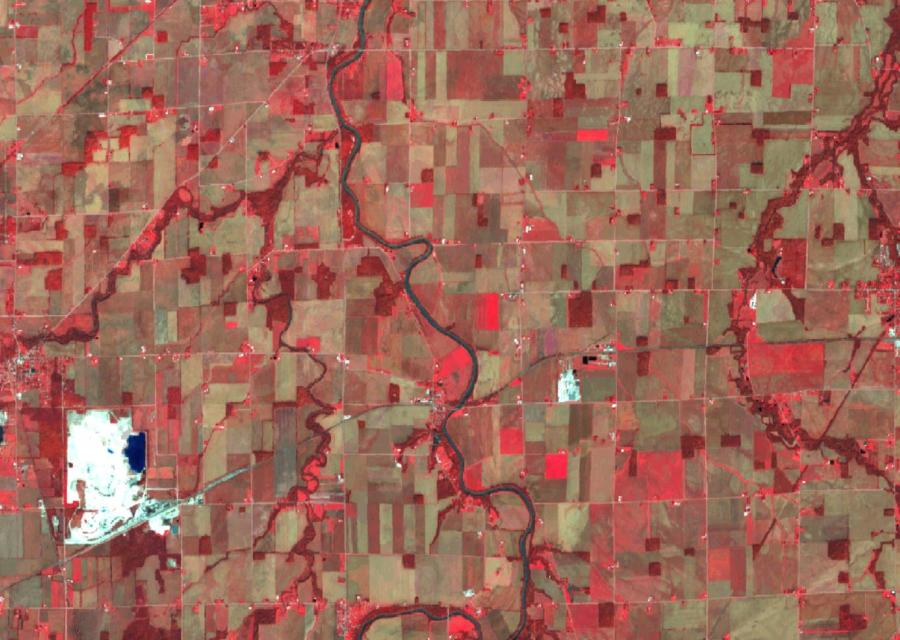Potential Lime Manufacturing Facility: (62, 407, 191, 541)
